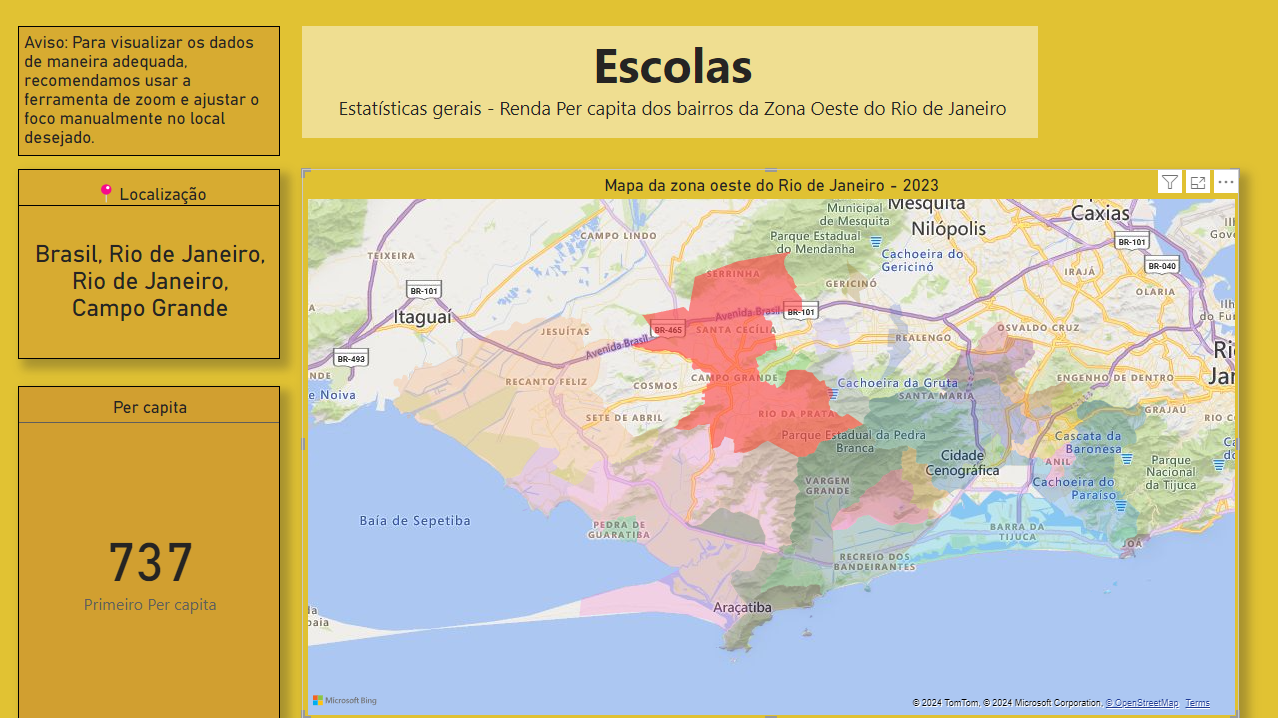

Layout of this report page (visuals, bound fields, positions):
{"tool":"powerbi","page":{"name":"Escolas2","canvas":[1280,720],"ordinal":4},"visuals":[{"type":"textbox","box":[302.5,27.2,735.3,111.9],"z":0},{"type":"filledMap","title":"Mapa da zona oeste do Rio de Janeiro - 2023","fields":{"Series":["Planilha1 (9).Per capita"],"Category":["Planilha1 (9).Localização"]},"box":[302.5,170.2,936.7,549.5],"z":1000},{"type":"card","title":"Per capita","fields":{"Values":["Min(Planilha1 (9).Per capita)"]},"box":[18.5,387.1,261.6,332.6],"z":2000},{"type":"card","title":"📍Localização","fields":{"Values":["Min(Planilha1 (9).Localização)"]},"box":[18.5,170.2,261.6,189.7],"z":3000},{"type":"textbox","box":[18,27.1,261.7,129.9],"z":4000}]}

Visuals, with their boxes in screenshot pixels (x1, y1, x2, y2), scaled from the page's 1280x720 canvas onto the 1278x718 screenshot:
textbox: 302/27/1036/139
"Mapa da zona oeste do Rio de Janeiro - 2023" filledMap: 302/170/1237/717
"Per capita" card: 18/386/280/717
"📍Localização" card: 18/170/280/359
textbox: 18/27/279/157
